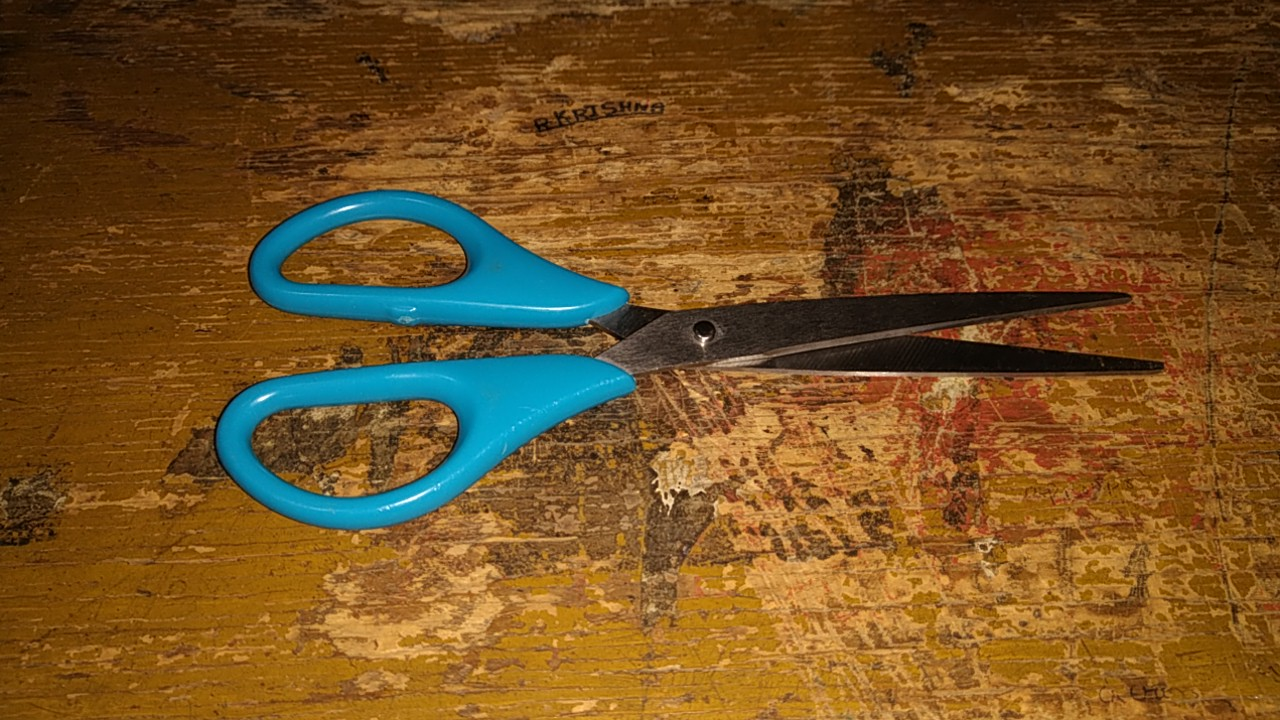scissor: (200, 172, 1190, 551)
